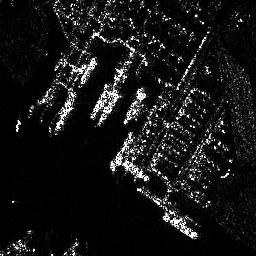ship: (109, 132, 135, 172), (161, 213, 198, 240), (124, 85, 145, 126), (96, 94, 121, 126), (89, 82, 109, 120), (53, 106, 74, 135), (79, 57, 98, 88), (124, 160, 150, 182)
